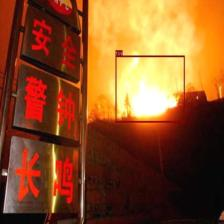fire: (116, 55, 184, 122)
